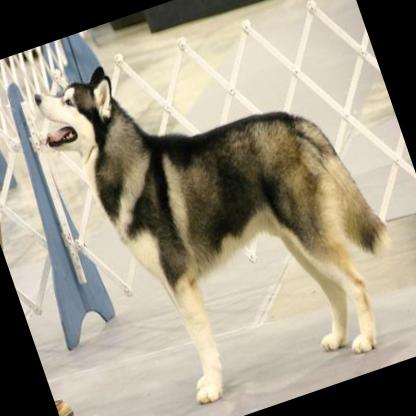Siberian_husky: (24, 0, 416, 416)
